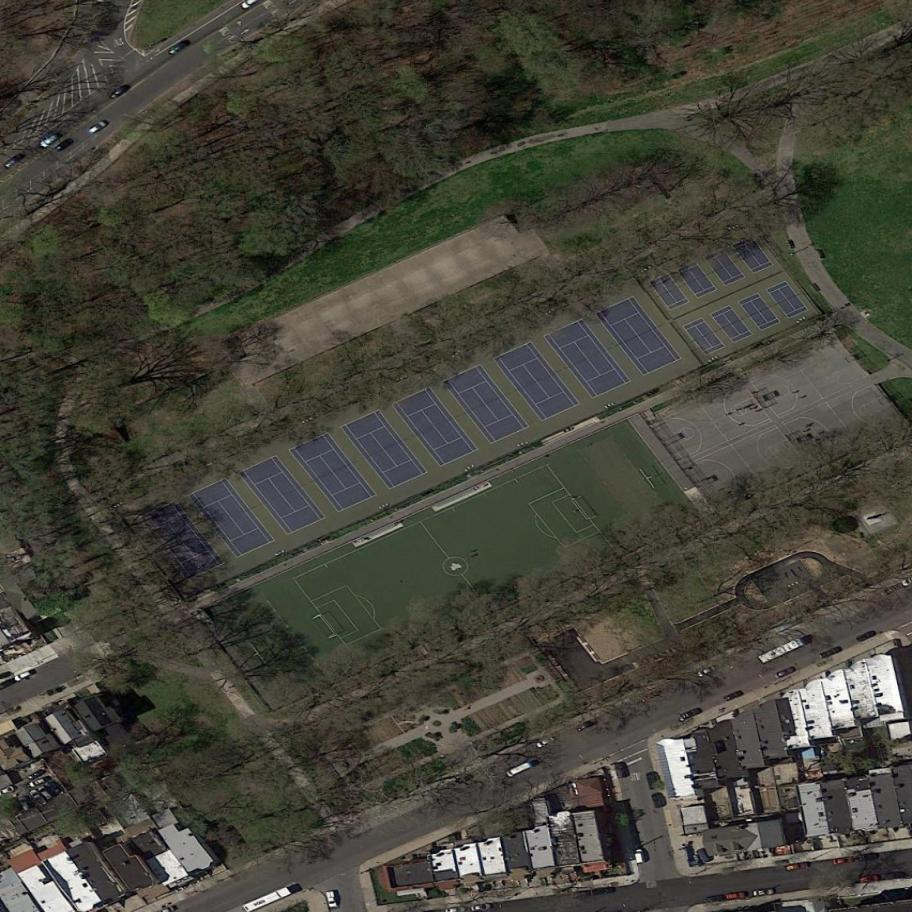large-vehicle: (759, 636, 805, 664), (504, 757, 541, 779), (854, 629, 879, 643), (470, 902, 492, 912), (816, 246, 827, 262), (786, 239, 797, 253)
small-vehicle: (167, 37, 193, 58), (107, 82, 134, 102), (675, 706, 704, 724), (3, 151, 28, 170), (40, 129, 62, 150), (818, 645, 845, 662), (54, 135, 76, 154), (773, 665, 797, 682), (720, 688, 745, 704), (24, 767, 48, 783), (88, 118, 108, 137), (29, 788, 48, 808), (13, 668, 35, 684), (696, 663, 718, 679), (574, 718, 596, 734), (535, 734, 556, 750), (854, 853, 879, 865), (39, 786, 55, 804), (29, 775, 48, 789), (325, 890, 339, 909), (645, 772, 658, 792), (831, 856, 854, 867), (652, 792, 666, 810), (860, 873, 885, 883), (592, 887, 617, 897), (612, 761, 625, 780), (704, 894, 726, 905), (569, 891, 592, 901), (785, 863, 810, 872), (18, 796, 31, 812), (725, 891, 748, 900), (635, 848, 647, 865), (885, 872, 907, 880), (753, 889, 774, 897)
